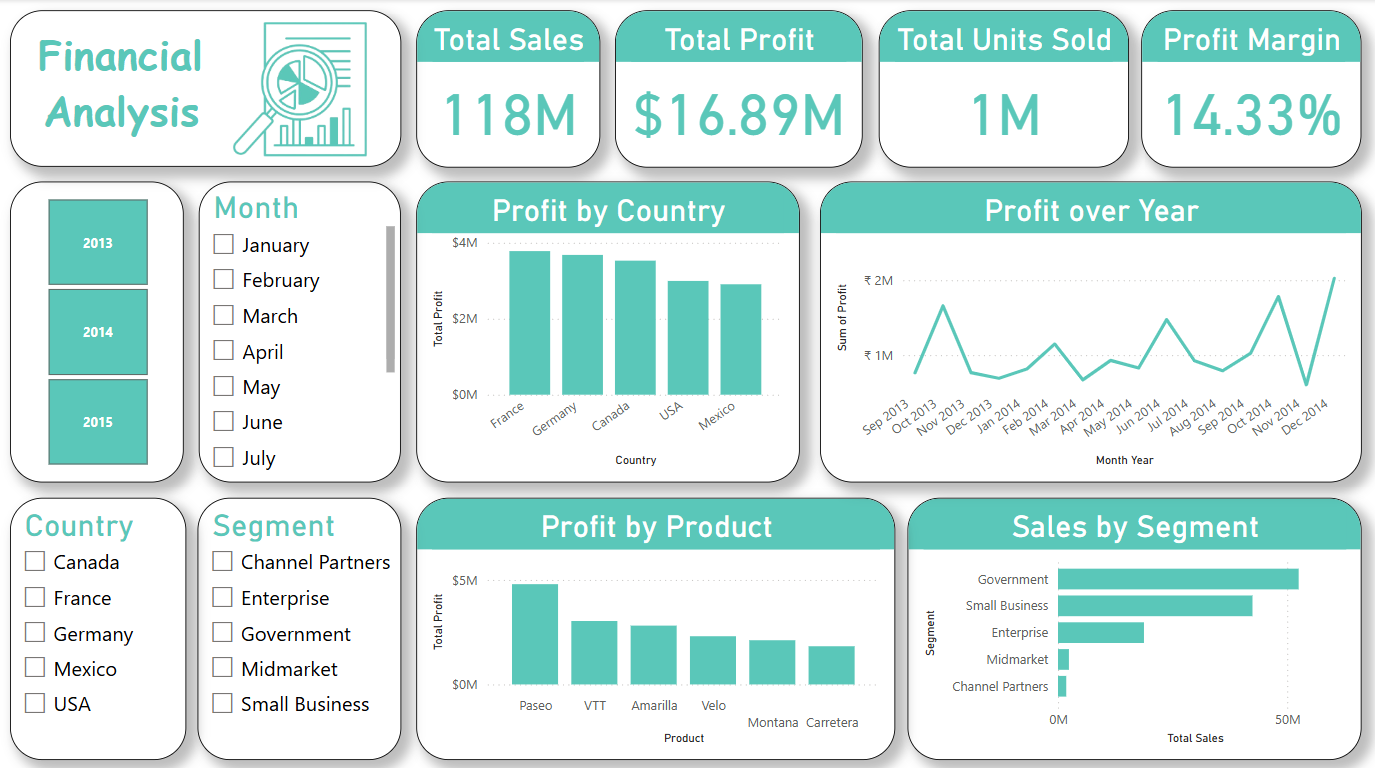

Layout of this report page (visuals, bound fields, positions):
{"tool":"powerbi","page":{"name":"Financial Dashboard","canvas":[1280,720],"ordinal":0},"visuals":[{"type":"card","title":"Total Sales","fields":{"Values":["Financials.Total Sales"]},"box":[387.2,10.5,170.9,146.5],"z":0},{"type":"card","title":"Total Profit","fields":{"Values":["Financials.Total Profit"]},"box":[572.1,10.5,230.2,146.5],"z":1000},{"type":"card","title":"Total Units Sold","fields":{"Values":["Financials.Total Units Sold"]},"box":[817.4,10.5,232.6,146.5],"z":2000},{"type":"card","title":"Profit Margin","fields":{"Values":["Financials.Profit Margin %"]},"box":[1061.6,10.5,204.7,146.5],"z":3000},{"type":"barChart","title":"Sales by Segment","fields":{"Y":["Financials.Total Sales"],"Category":["Financials.Segment"]},"box":[843.9,463.8,422.6,244.3],"z":4000},{"type":"clusteredColumnChart","title":"Profit by Country","fields":{"Category":["Financials.Country"],"Y":["Financials.Total Profit"]},"box":[387,170.2,356.8,279.9],"z":5000},{"type":"clusteredColumnChart","title":"Profit by Product","fields":{"Category":["Financials. Product "],"Y":["Financials.Total Profit"]},"box":[387,463.8,446,244.3],"z":6000},{"type":"slicer","fields":{"Values":["DateTable.Year"]},"box":[9.3,169.8,161.6,280.2],"z":7000},{"type":"slicer","fields":{"Values":["DateTable.Month Name"]},"box":[184.9,169.8,188.4,280.2],"z":8000},{"type":"slicer","fields":{"Values":["Financials.Segment"]},"box":[183.7,464,189.5,244.2],"z":9000},{"type":"slicer","fields":{"Values":["Financials.Country"]},"box":[9.3,464,164,244.2],"z":10000},{"type":"textbox","box":[9.3,10.5,364,145.3],"z":11000},{"type":"image","box":[210.5,12.8,137.2,141.9],"z":12000},{"type":"lineChart","title":"Profit over Year","fields":{"Y":["Sum(Financials. Profit )"],"Category":["DateTable.Month Year"]},"box":[763,170.2,503.6,279.9],"z":13000}]}

Visuals, with their boxes in screenshot pixels (x1, y1, x2, y2), scaled from the page's 1280x720 canvas onto the 1375x768 screenshot:
"Total Sales" card: crop(416, 11, 600, 167)
"Total Profit" card: crop(615, 11, 862, 167)
"Total Units Sold" card: crop(878, 11, 1128, 167)
"Profit Margin" card: crop(1140, 11, 1360, 167)
"Sales by Segment" barChart: crop(907, 495, 1360, 755)
"Profit by Country" clusteredColumnChart: crop(416, 182, 799, 480)
"Profit by Product" clusteredColumnChart: crop(416, 495, 895, 755)
slicer - DateTable.Year: crop(10, 181, 184, 480)
slicer - DateTable.Month Name: crop(199, 181, 401, 480)
slicer - Financials.Segment: crop(197, 495, 401, 755)
slicer - Financials.Country: crop(10, 495, 186, 755)
textbox: crop(10, 11, 401, 166)
image: crop(226, 14, 374, 165)
"Profit over Year" lineChart: crop(820, 182, 1361, 480)
